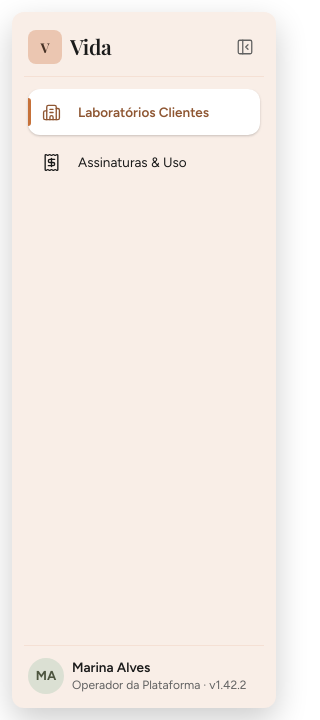
Test: Sidebar — preferências do aviso de mensagem nova (CRMLAB-72, D-241) › operador da plataforma não vê as preferências (não recebe conversa)
Click the button "MA Marina Alves Operador da Plataforma · v1.42.2" at (144, 676), box top-left (28, 658), bottom-right (260, 694)
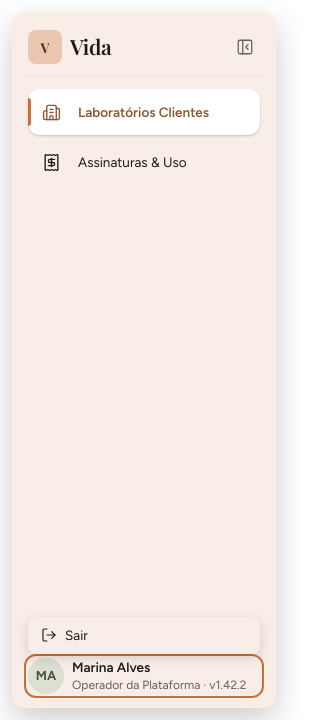
Check: the menu item "Sair" is shown, box top-left (29, 622), bottom-right (259, 649)
